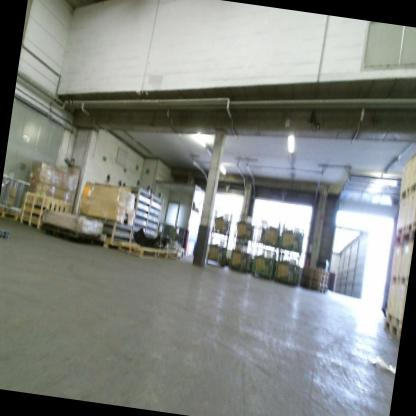pallet: (116, 238, 180, 267), (40, 222, 100, 248), (12, 187, 48, 227), (41, 194, 69, 220), (391, 227, 414, 247), (382, 317, 400, 339), (302, 263, 330, 276), (0, 207, 21, 223), (301, 283, 329, 295), (302, 271, 328, 280), (301, 275, 327, 284), (302, 280, 327, 289)
stillage: (271, 252, 305, 290), (275, 220, 307, 257), (225, 237, 255, 276), (248, 244, 278, 282), (204, 230, 232, 270), (255, 212, 282, 250), (231, 209, 258, 244), (209, 205, 234, 239)
